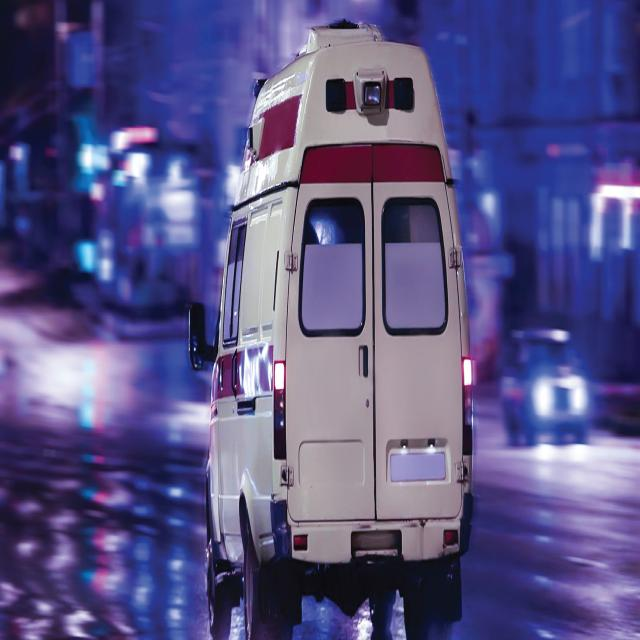emergency: (189, 26, 474, 638)
